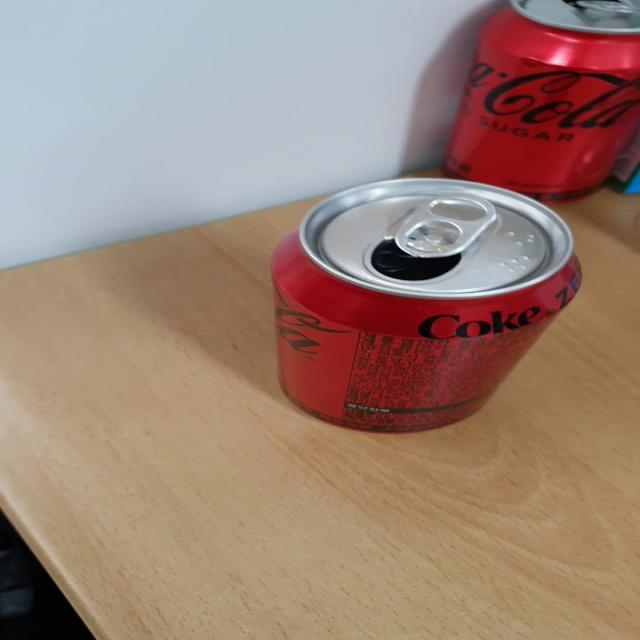coca-cola: (250, 170, 606, 442), (438, 0, 640, 218)
